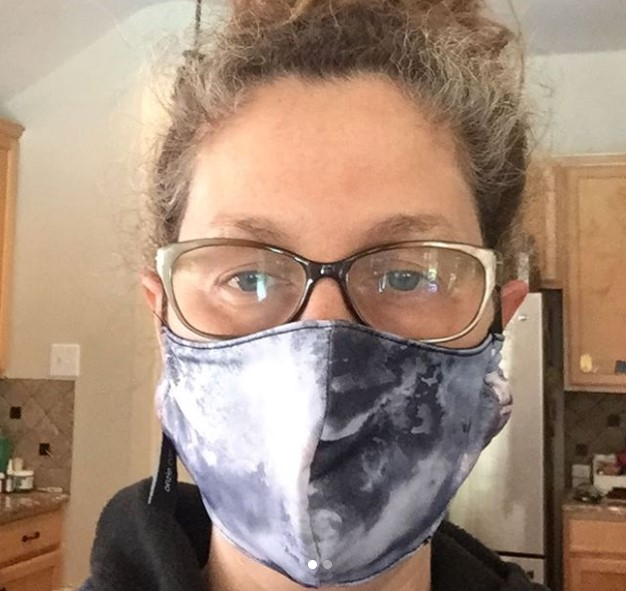face_with_mask: (141, 10, 524, 587)
